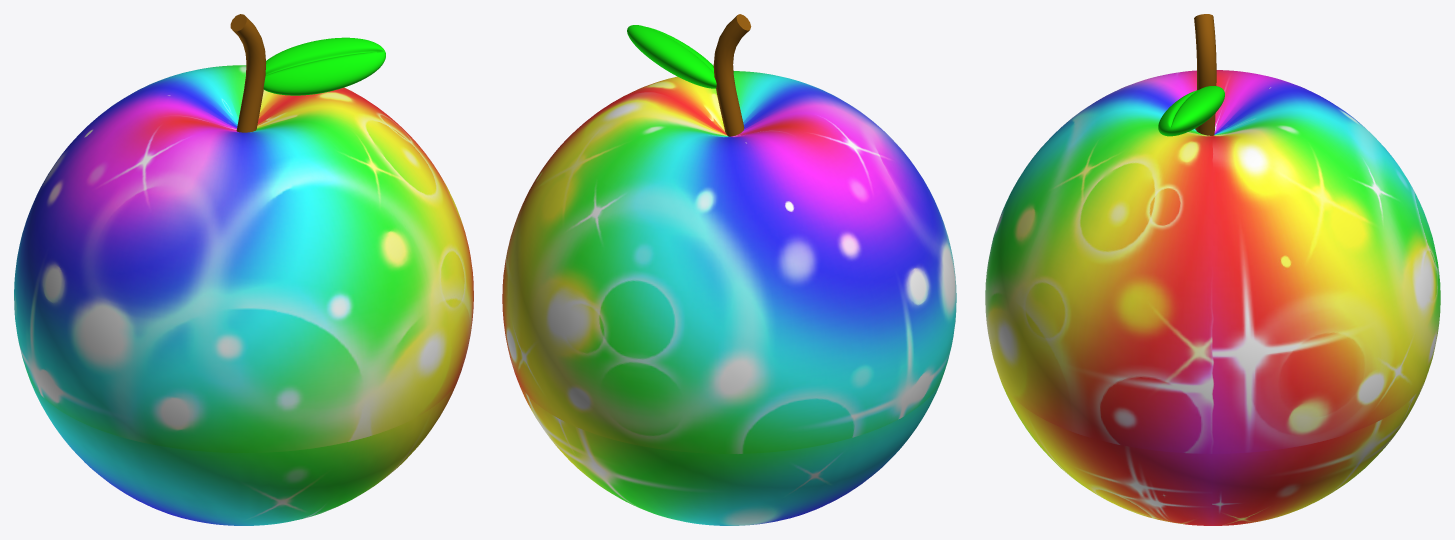
Rendered from ModelApple_rainbow.glb.
3 views of the same model, side by side, from view 1: azimuth 30°, elevation 25°; view 2: azimuth 150°, elevation 25°; view 3: azimuth 270°, elevation 25° (orthographic).
Parts seen in each view (by area): view 1: Sphere.008, Sphere.009, BezierCurve.004; view 2: Sphere.008, Sphere.009, BezierCurve.004; view 3: Sphere.008, Sphere.009, BezierCurve.004.
Boxes of the visible parts, <box> form: Sphere.008: <box>14,65,473,525</box>; Sphere.009: <box>263,37,385,95</box>; BezierCurve.004: <box>230,14,266,132</box>; Sphere.008: <box>502,71,956,525</box>; Sphere.009: <box>627,25,716,88</box>; BezierCurve.004: <box>713,14,751,136</box>; Sphere.008: <box>985,70,1440,525</box>; Sphere.009: <box>1158,86,1224,136</box>; BezierCurve.004: <box>1194,14,1216,135</box>.
Bounding box in the file's own units: 0.2359 × 0.2687 × 0.2359.
3 materials, 1 textured.
